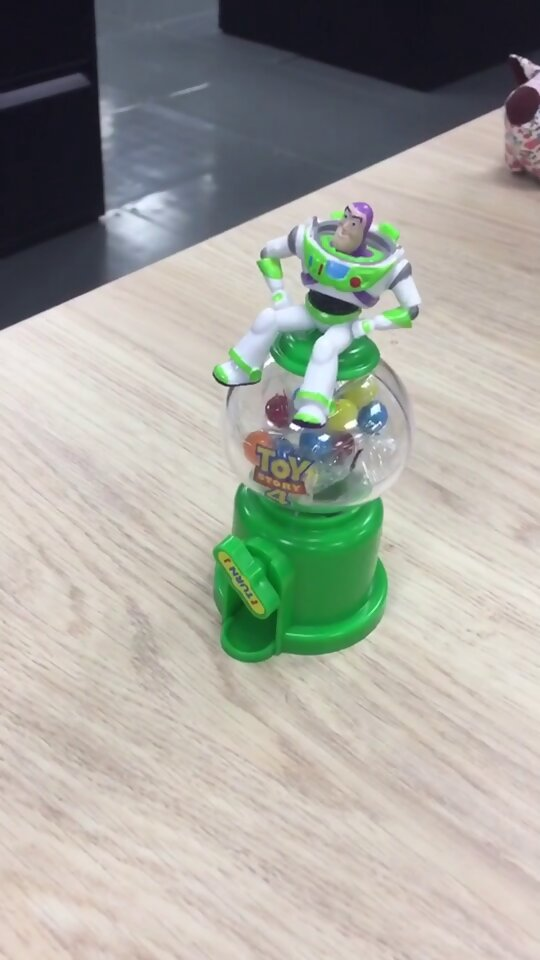buzz: (205, 197, 429, 667)
